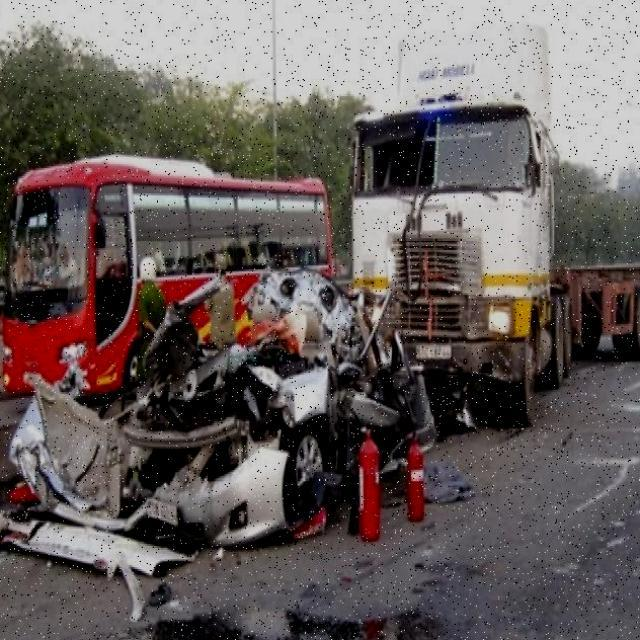accident: (5, 249, 478, 586), (340, 99, 555, 435)
